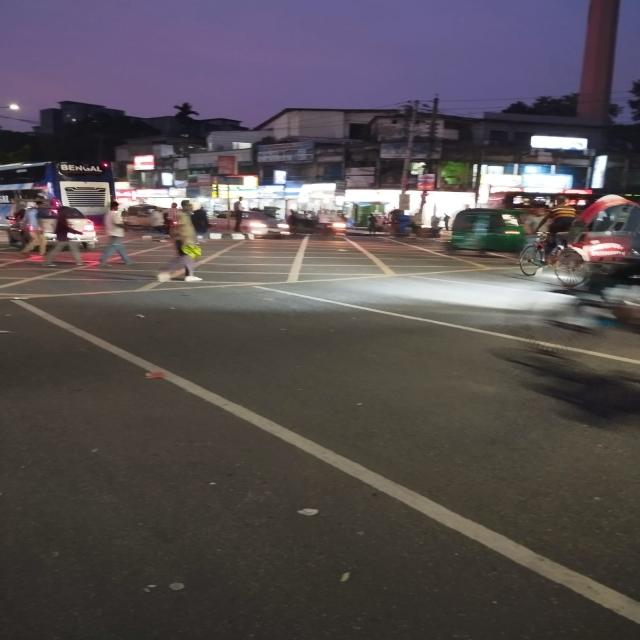person: (157, 200, 202, 282), (41, 207, 89, 266), (99, 200, 132, 266), (21, 200, 48, 258)
